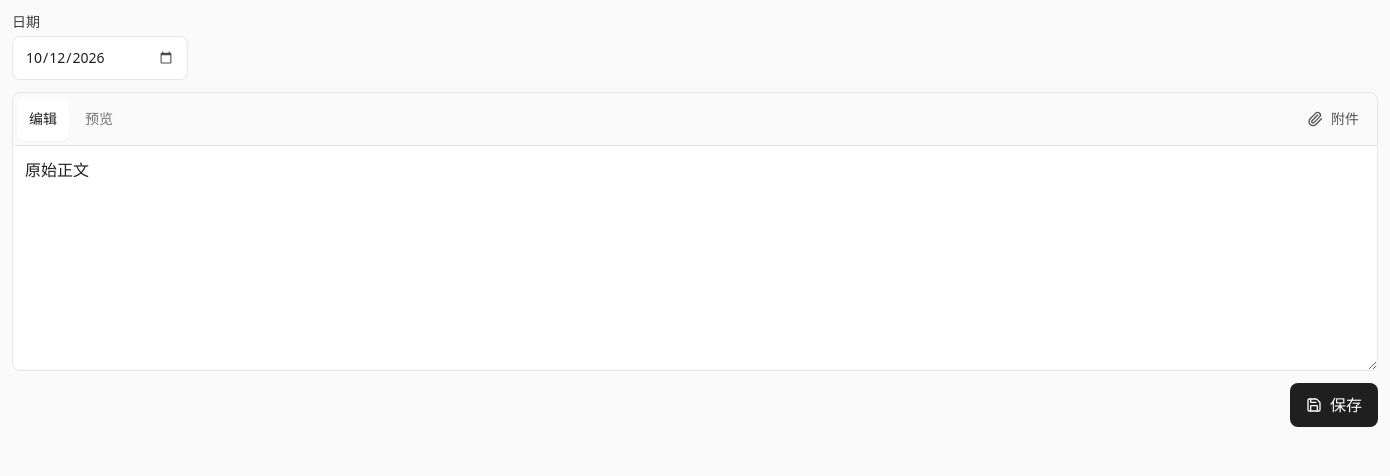
EntryComposer › keeps save failures inline while also showing a toast
Type " 本地修改" into the text box at (695,258), box [13,146,1377,370]
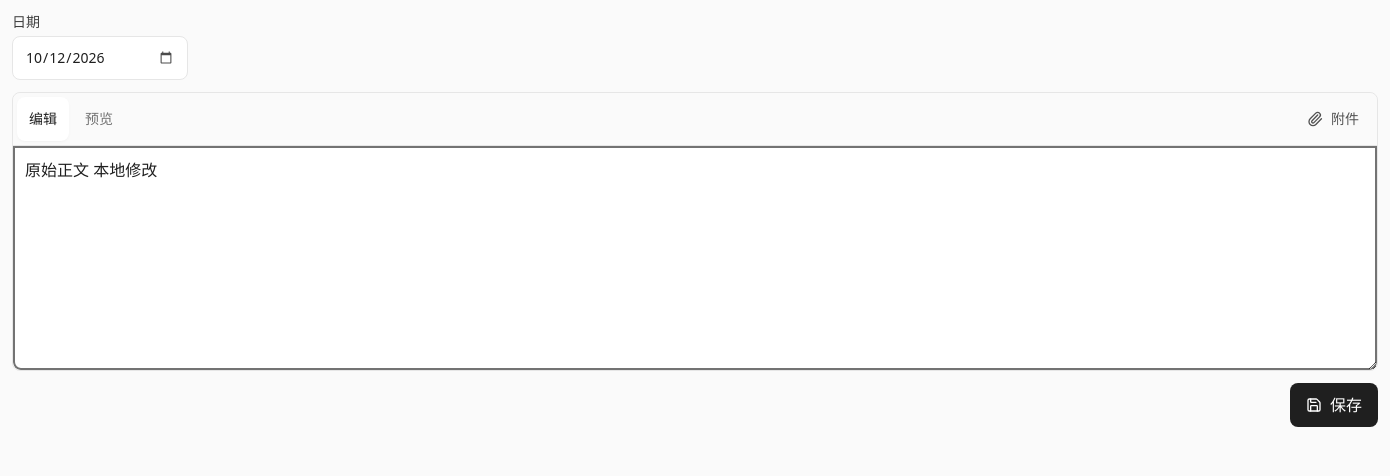
Click the button "保存" at (1334,405), box [1290,383,1378,427]
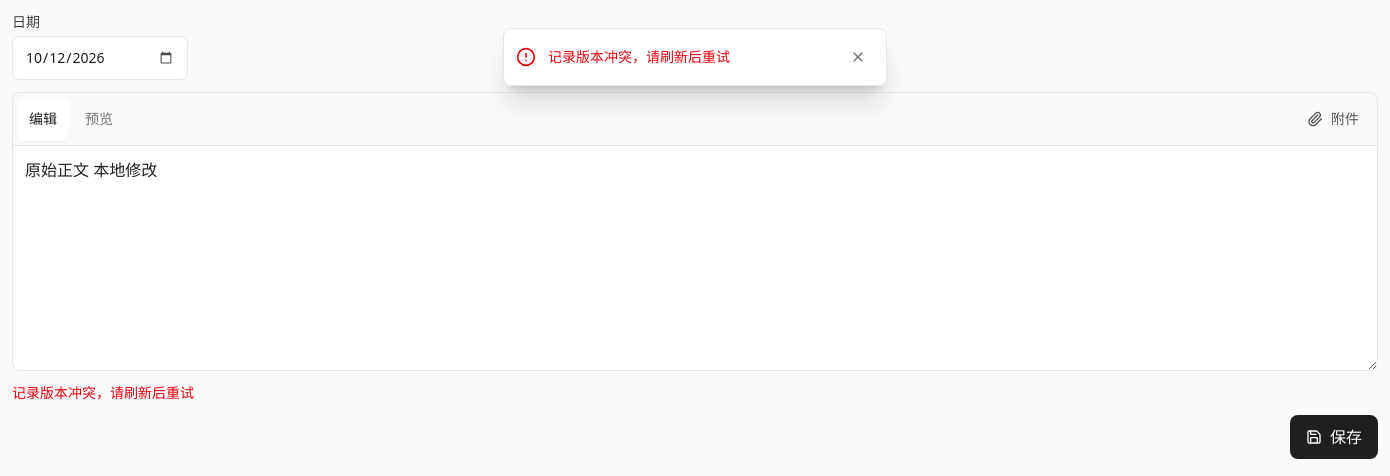
Check: the 2nd message "记录版本冲突，请刷新后重试" is shown, box [12,383,194,402]
Check: the text "记录版本冲突，请刷新后重试" is shown 2 times, box [12,383,194,402]; [548,47,730,66]
